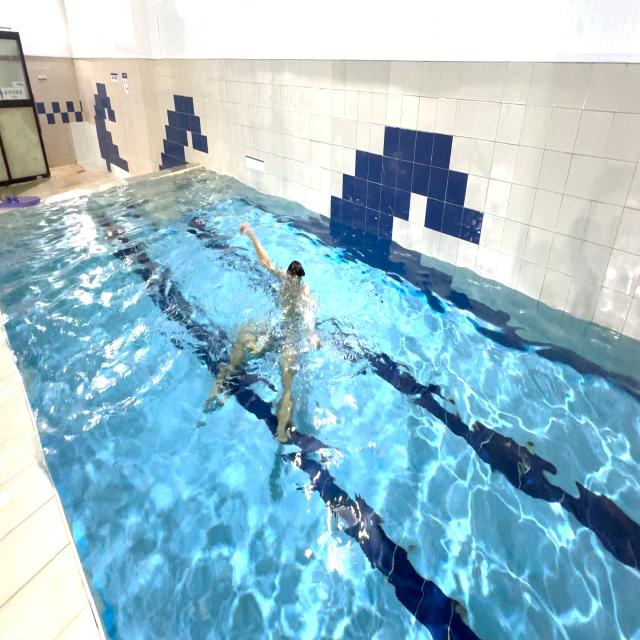Drowning: (206, 202, 330, 465)
